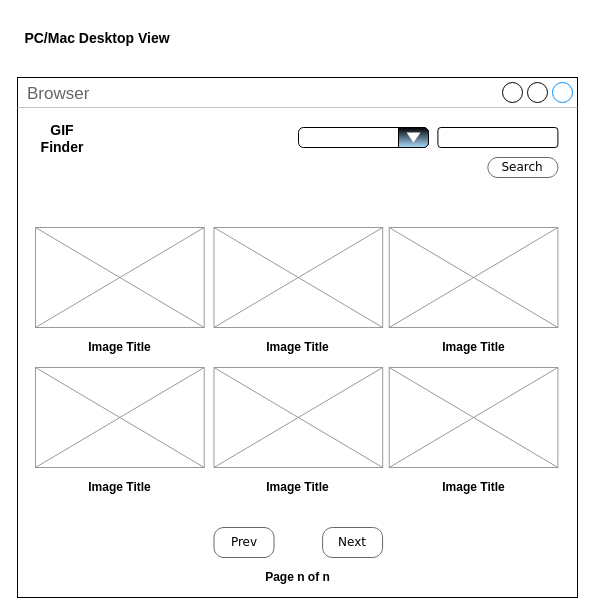
The diagram is 595 pixels wide and 615 high, and some of its shapes have lost their labels. The centre of each missing label's shape, as x and y in pixels:
Keyword: the point at 497,137
Search for: the point at 363,137
